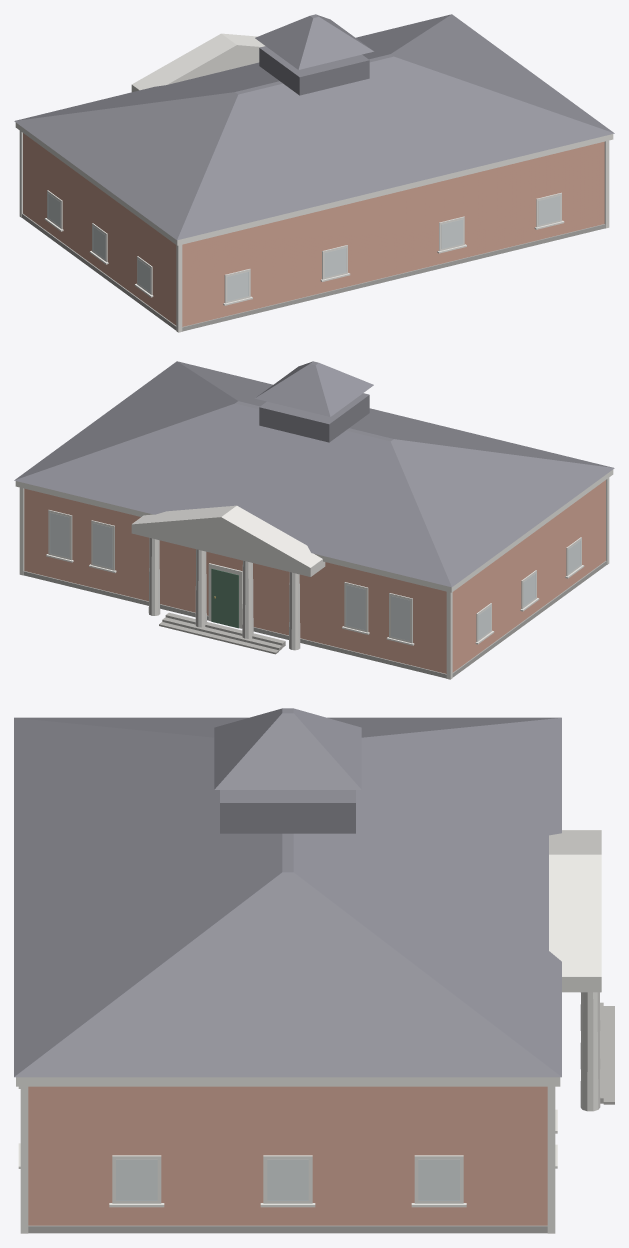
The model's file is library_b.glb.
3 renders of one model, top to bottom at view 1: azimuth 30°, elevation 25°; view 2: azimuth 150°, elevation 25°; view 3: azimuth 270°, elevation 25°, orthographic. The views are drawn at different scales.
Parts seen in each view (by area): view 1: roof, body; view 2: roof, body; view 3: roof, body.
Part boxes in pixels (x1,y1,x2,y2): roof: [14, 14, 614, 240]; body: [15, 33, 613, 332]; roof: [14, 361, 614, 587]; body: [15, 469, 613, 679]; roof: [14, 708, 561, 1077]; body: [16, 830, 614, 1233].
Size of the model in its own units: 22.5 by 10.1 by 15.9.
